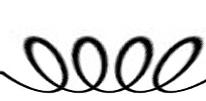inductor: (0, 36, 205, 96)
